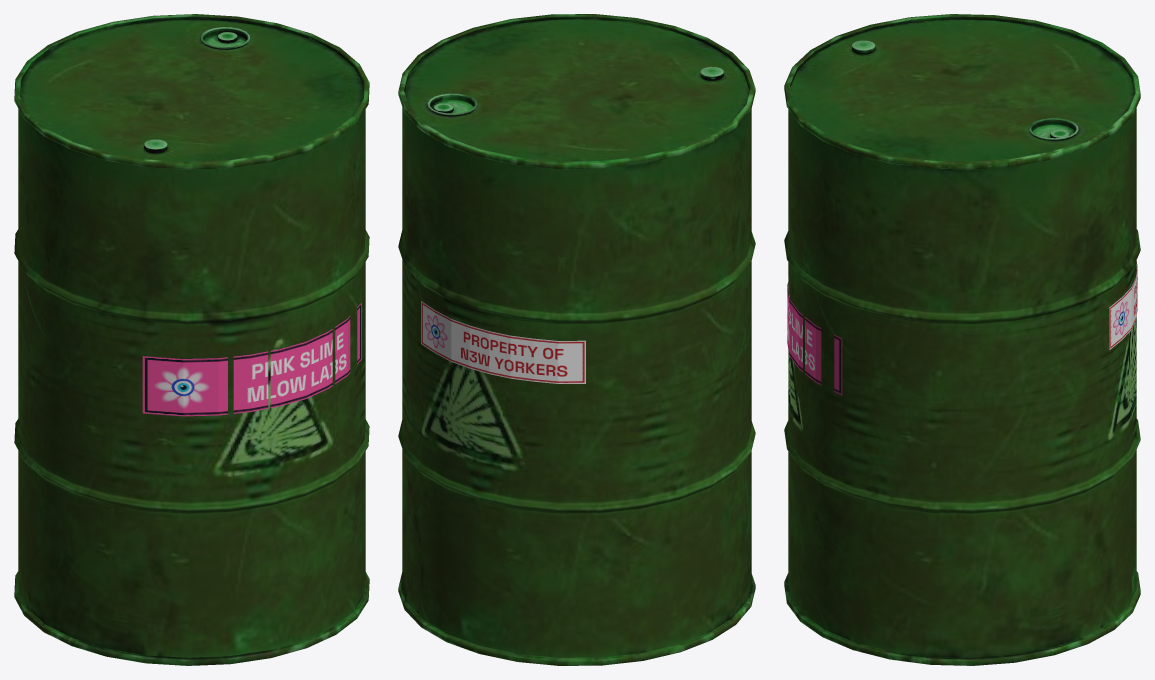
Rendered from nyb_ghost_slime.glb.
3 views of the same model, side by side, from view 1: azimuth 30°, elevation 25°; view 2: azimuth 150°, elevation 25°; view 3: azimuth 270°, elevation 25° (orthographic).
Parts seen in each view (by area): view 1: Barrel_01, stk_lbl_407b0cd6f4.png; view 2: Barrel_01, stk_label_property.png; view 3: Barrel_01, stk_lbl_407b0cd6f4.png, stk_label_property.png.
Boxes of the visible parts, x1,y1,x2,y2 form: Barrel_01: [14, 14, 369, 665]; stk_lbl_407b0cd6f4.png: [142, 302, 361, 416]; Barrel_01: [398, 14, 755, 665]; stk_label_property.png: [421, 301, 585, 383]; Barrel_01: [784, 14, 1140, 665]; stk_lbl_407b0cd6f4.png: [787, 282, 842, 395]; stk_label_property.png: [1109, 261, 1137, 349].
Bounding box in the file's own units: 0.563 × 0.88 × 0.563.
Materials: 3 (3 with a texture image).
